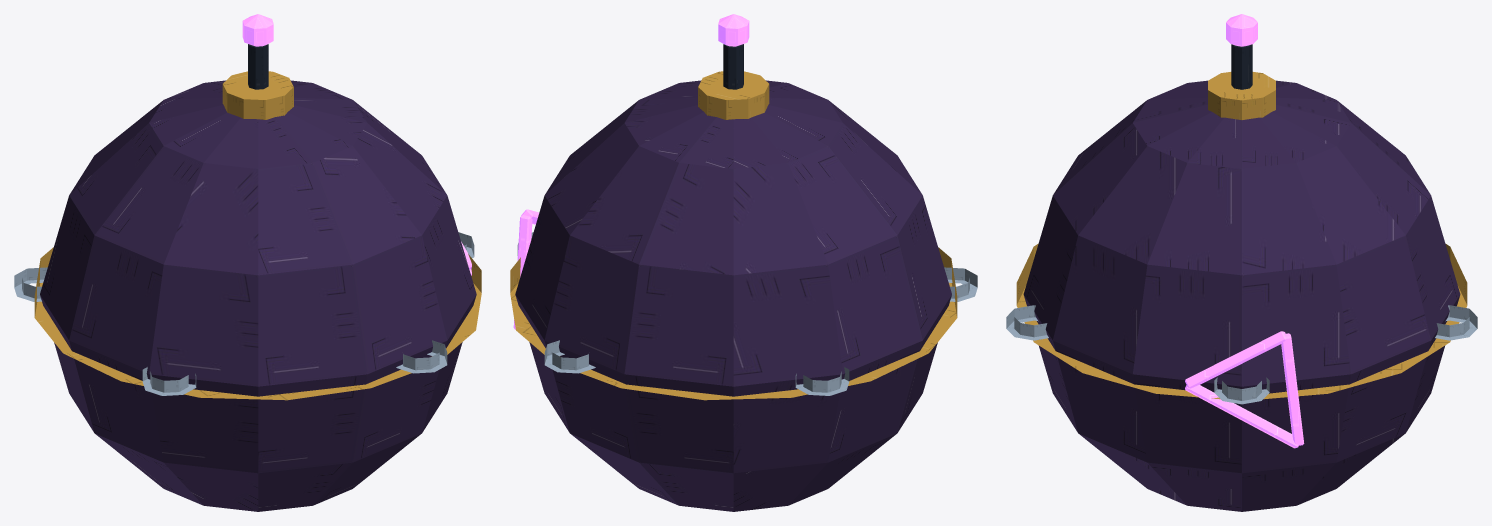
Rendered from hex.glb.
3 renders of one model, left to right at view 1: azimuth 30°, elevation 25°; view 2: azimuth 150°, elevation 25°; view 3: azimuth 270°, elevation 25°, orthographic.
Visible parts, largest first — view 1: body, fuse; view 2: body, fuse; view 3: body, fuse.
Boxes of the visible parts, <box> form: body: <box>14,71,481,511</box>; fuse: <box>242,14,273,89</box>; body: <box>510,71,977,511</box>; fuse: <box>718,14,749,89</box>; body: <box>1006,72,1477,511</box>; fuse: <box>1226,14,1257,89</box>.
Bounding box in the file's own units: 0.3563 × 0.3987 × 0.3558.
5 materials, 5 textured.
